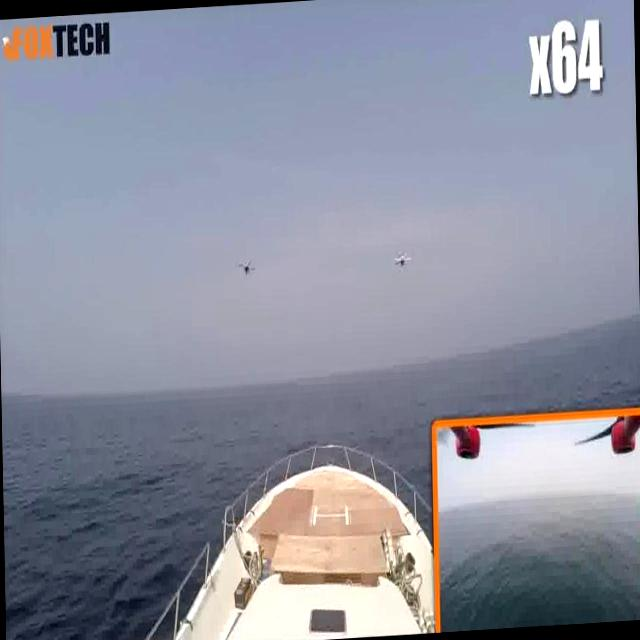drone: (236, 257, 259, 284), (391, 246, 413, 273)
